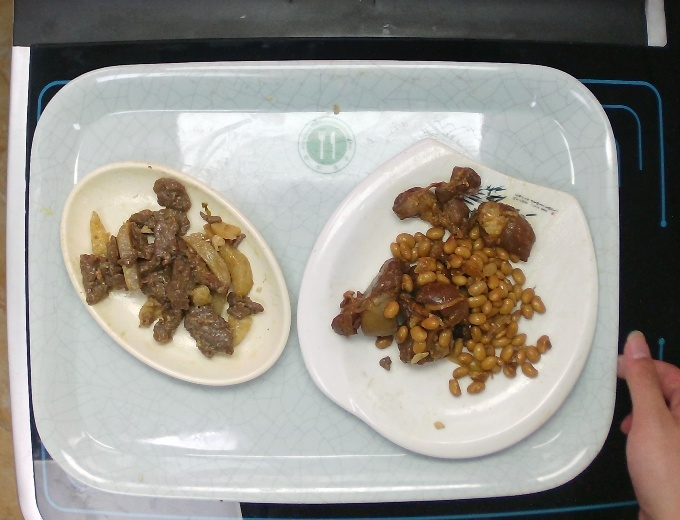JYsf-Mian_Pan: (294, 136, 601, 459)
JYsf-Tuo_Yuan_Wan: (61, 158, 295, 391)
